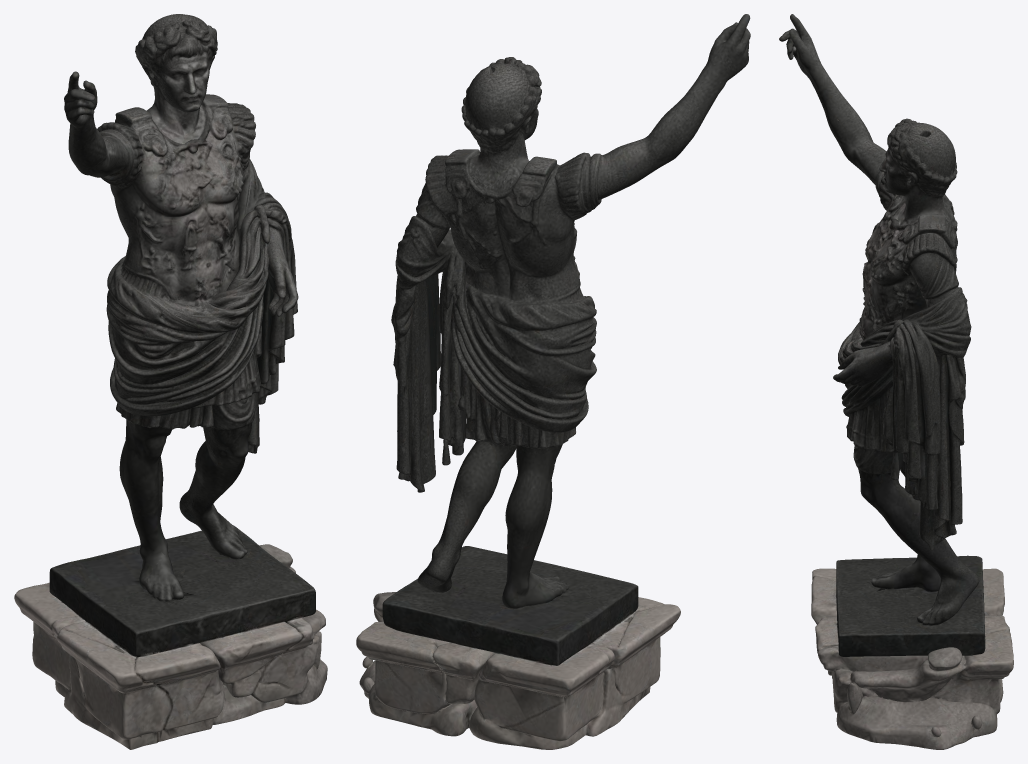
Rendered from crusader-emperor.glb.
The picture shows the model from 3 angles, left to right: view 1: azimuth 30°, elevation 25°; view 2: azimuth 150°, elevation 25°; view 3: azimuth 270°, elevation 25°; orthographic projection. The views are drawn at different scales.
Bounding box in the file's own units: 0.8994 × 1.9 × 0.6696.
Materials: 1 (1 with a texture image).
